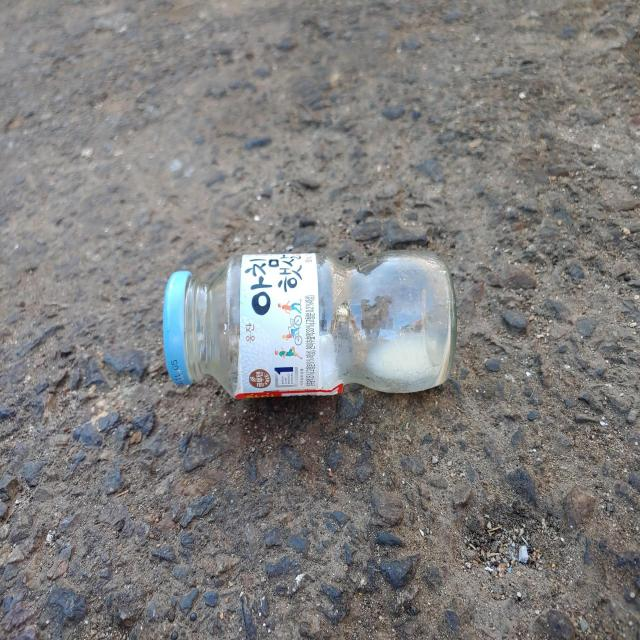glass: (163, 253, 457, 399)
